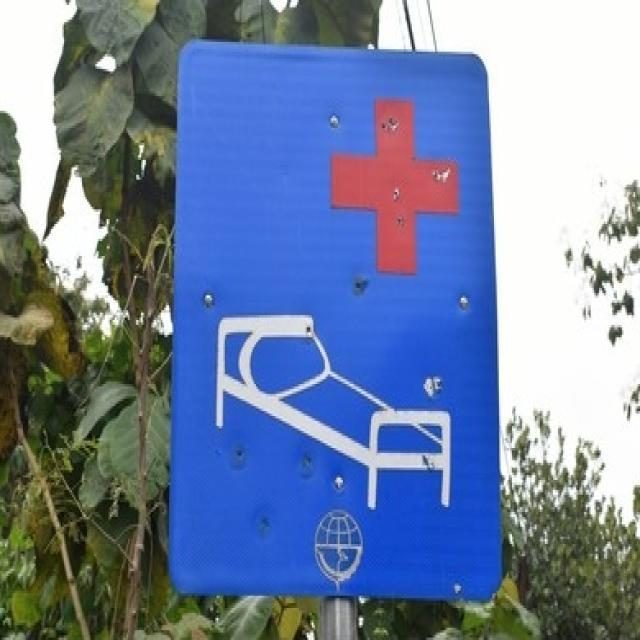hospital ahead: (183, 45, 487, 580)
